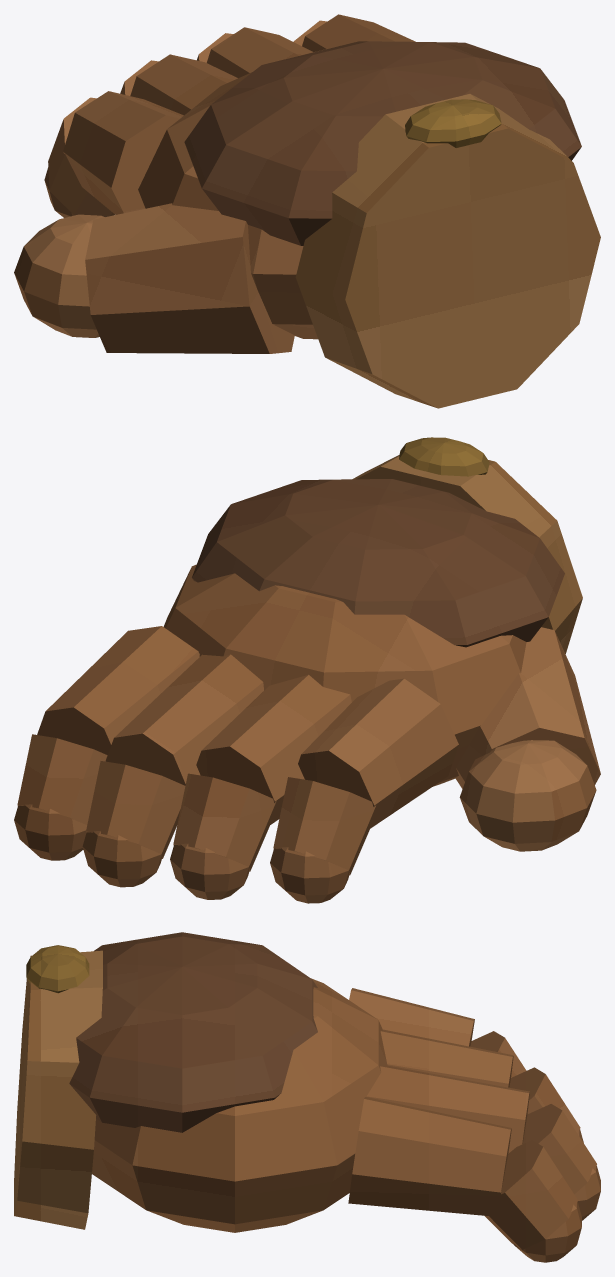
File: RightPalm.fbx
The picture shows the model from 3 angles, top to bottom: view 1: azimuth 30°, elevation 25°; view 2: azimuth 150°, elevation 25°; view 3: azimuth 270°, elevation 25°; orthographic projection. The views are drawn at different scales.
Parts seen in each view (by area): view 1: Set; view 2: Set; view 3: Set.
Boxes of the visible parts, left/top/right/bottom form: Set: left=14, top=14, right=600, bottom=408; Set: left=14, top=437, right=600, bottom=903; Set: left=14, top=932, right=600, bottom=1262.
Size of the model in its own units: 20.9 by 11.9 by 24.57.
